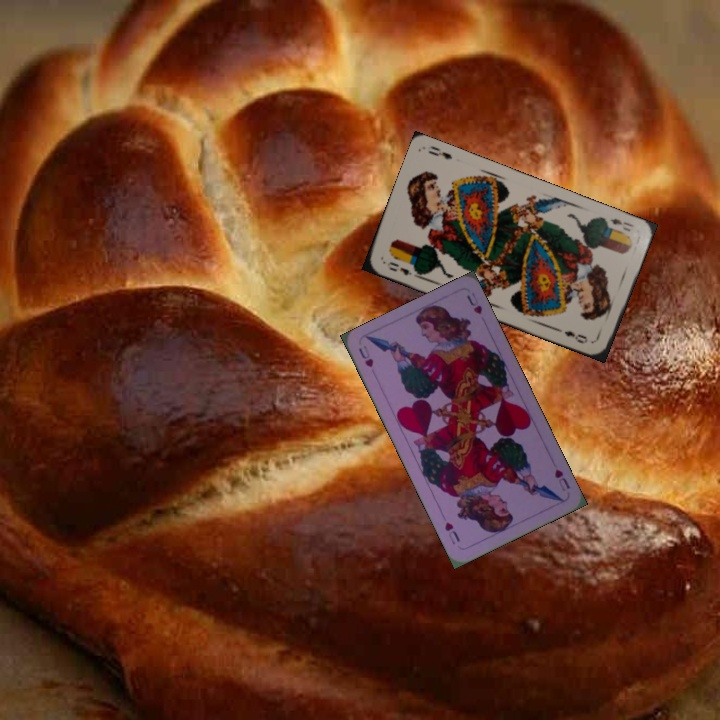EO: (383, 258, 420, 278), (606, 214, 636, 234)
HU: (550, 465, 572, 494), (354, 341, 376, 370)
